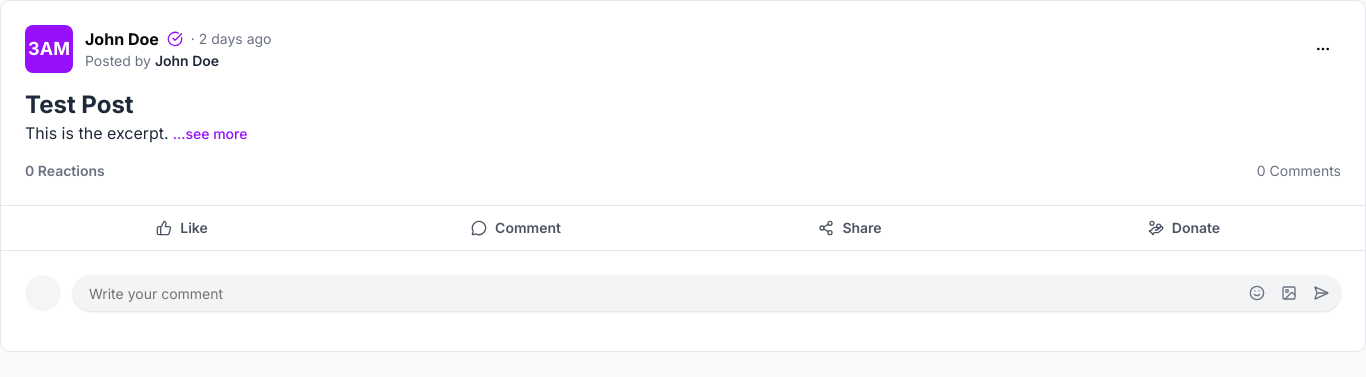
it: PostCard component › should show a "see more" button and expand content on click
What coordinates should you click on to do the following:
click the button "...see more"
I would click on:
 (210, 134)
Its box is [173, 124, 247, 144].
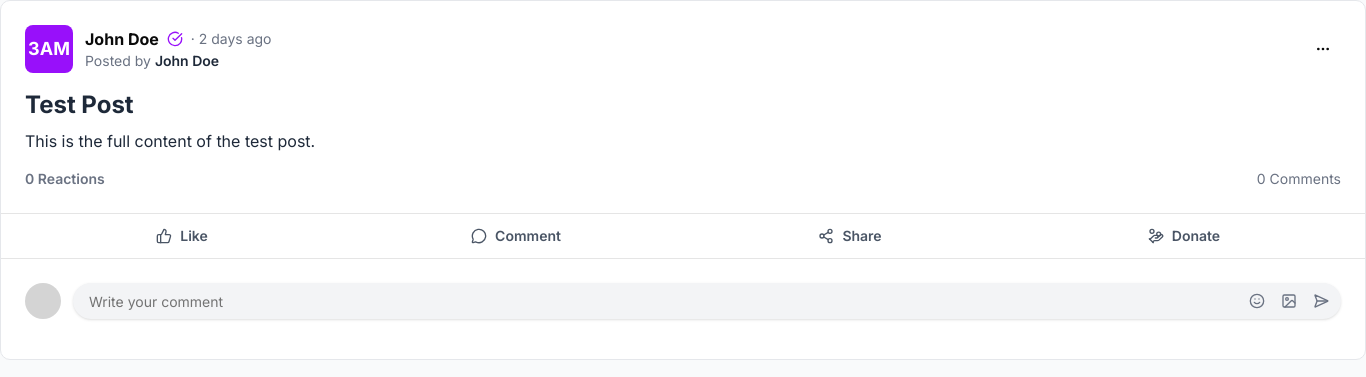
Check: the text "This is the full content of the test post." is shown, box [25, 131, 315, 151]
Check: the button "...see more" is gone
